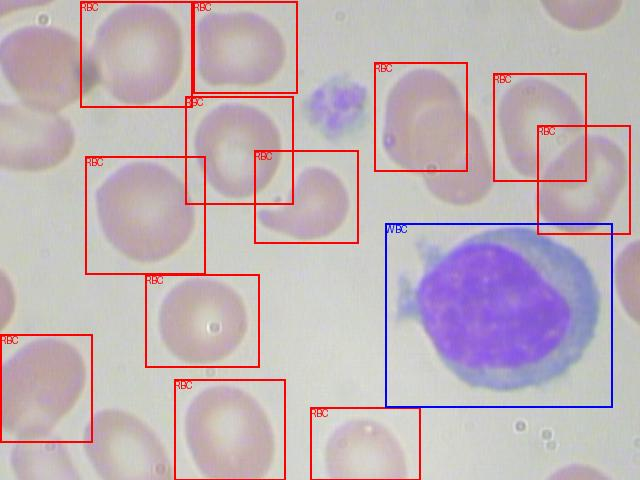RBC: (85, 156, 205, 274), (80, 1, 192, 107), (185, 96, 293, 204), (174, 379, 285, 480), (145, 274, 259, 367), (374, 62, 467, 171), (537, 125, 630, 234), (493, 73, 586, 181), (0, 334, 92, 442), (254, 150, 358, 243), (193, 1, 297, 93), (310, 407, 420, 480)
WBC: (385, 223, 612, 407)
